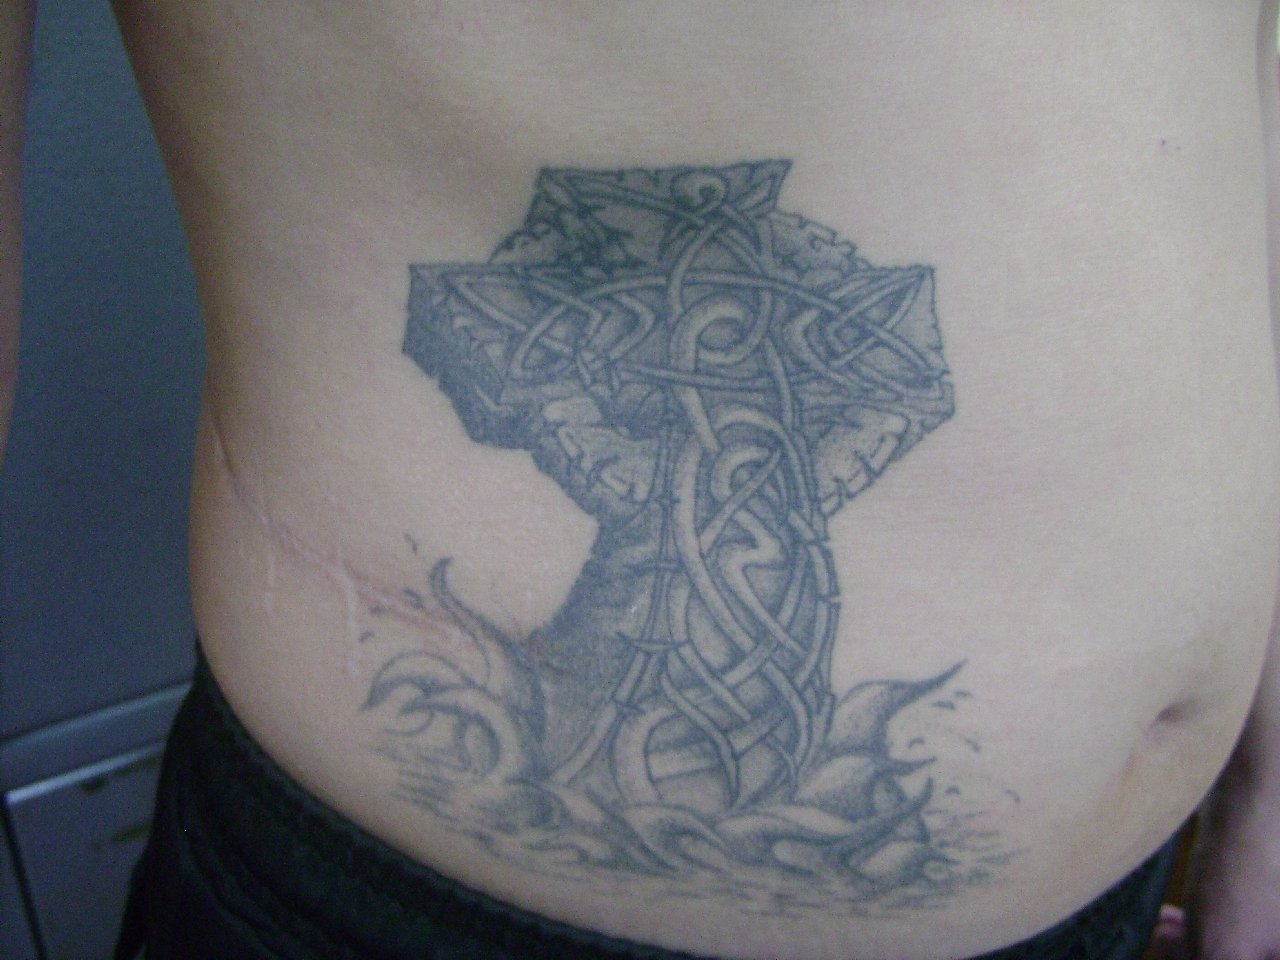tatu9_krest: (371, 179, 967, 874)
